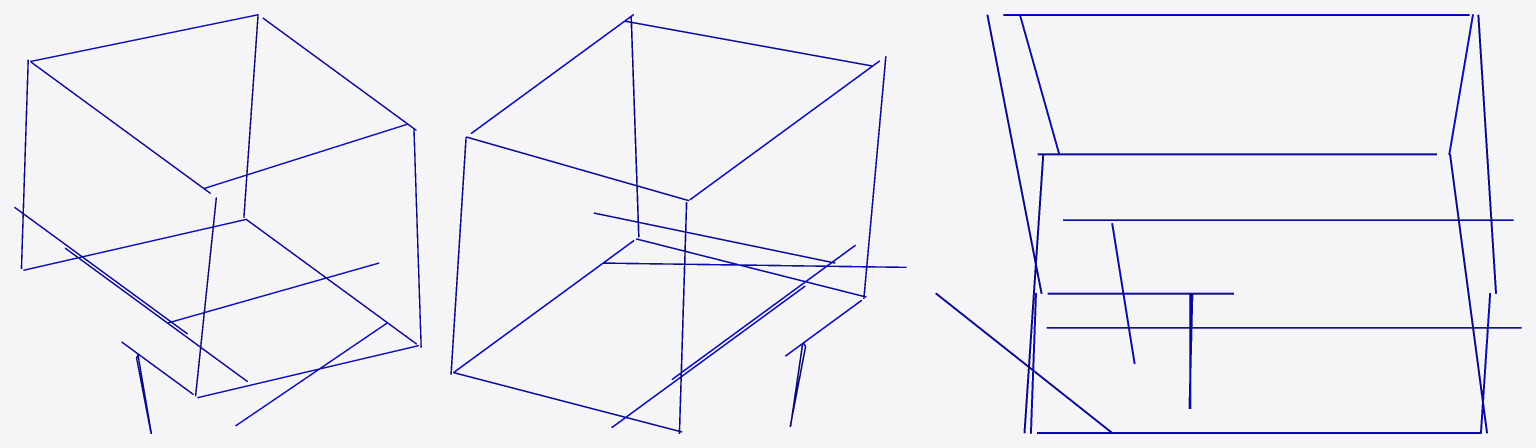
File: corrected_3d_strokes.glb
The picture shows the model from 3 angles, left to right: view 1: azimuth 30°, elevation 25°; view 2: azimuth 150°, elevation 25°; view 3: azimuth 270°, elevation 25°; orthographic projection. The views are drawn at different scales.
Parts seen in each view (by area): view 1: world; view 2: world; view 3: world.
Boxes of the visible parts, box(x1,y1,x2,y2) form: world: box(14, 14, 421, 433); world: box(450, 14, 906, 433); world: box(935, 14, 1521, 433).
Size of the model in its own units: 6.75 by 8.61 by 11.82.
